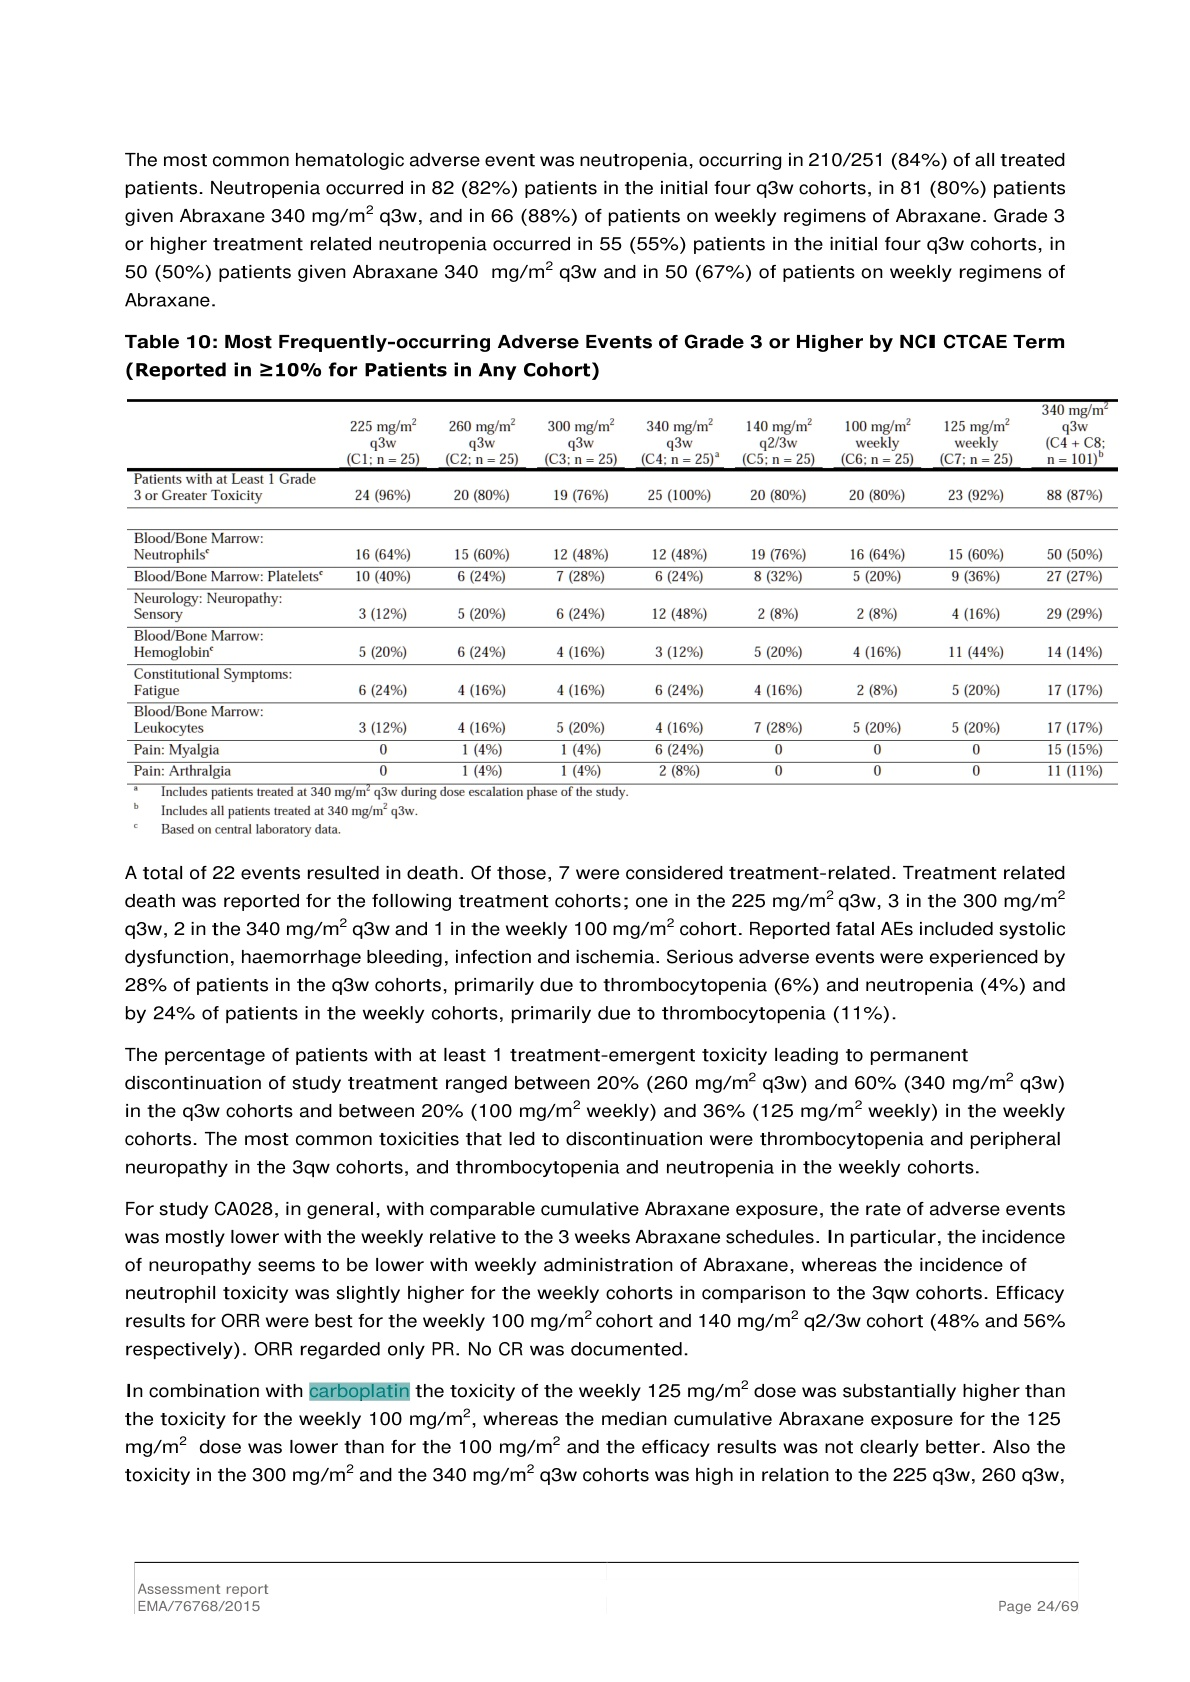partial_lined: (125, 398, 1118, 786)
